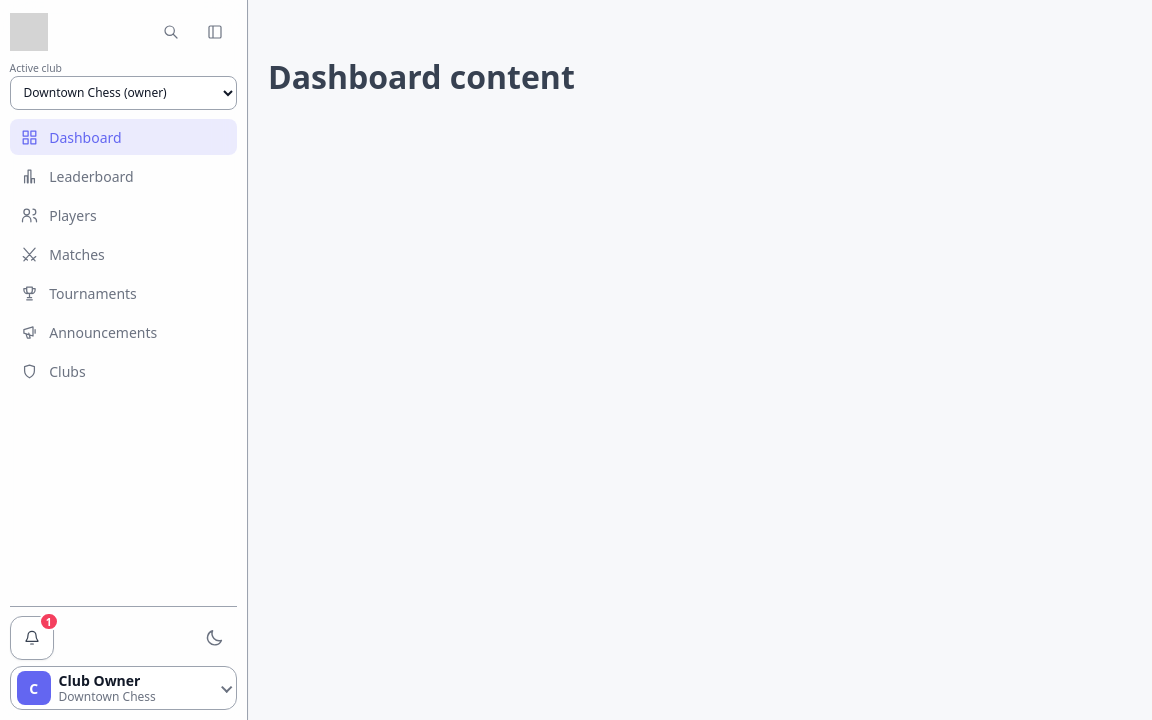
AppLayout navigation › renders and opens the real notification panel from the sidebar
This screenshot has width=1152, height=720.
Click the button named "Notifications, 1 unread": (32, 638) [10,616,54,660]
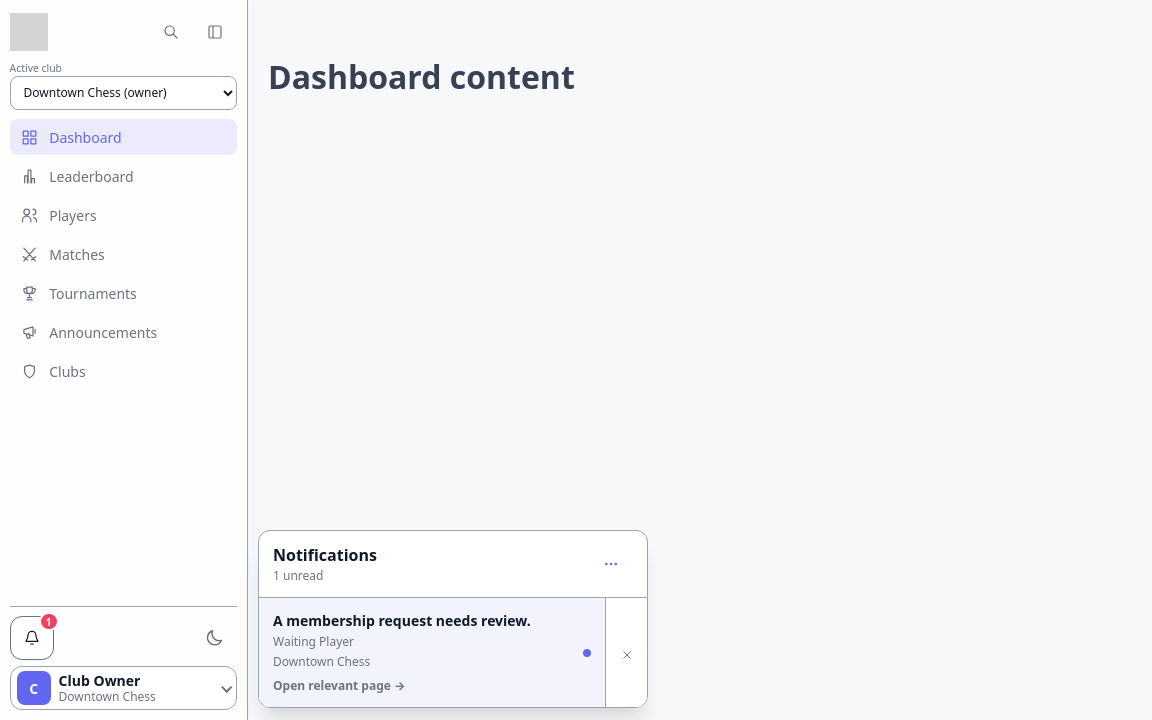
Result: the dialog "Notifications" is shown at [258,530,648,708]
Result: the text "A membership request needs review." is shown at [273,610,531,631]
Result: the text "Waiting Player" is shown at [273,633,354,650]
